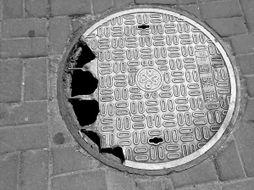wellcover: (54, 6, 236, 175)
